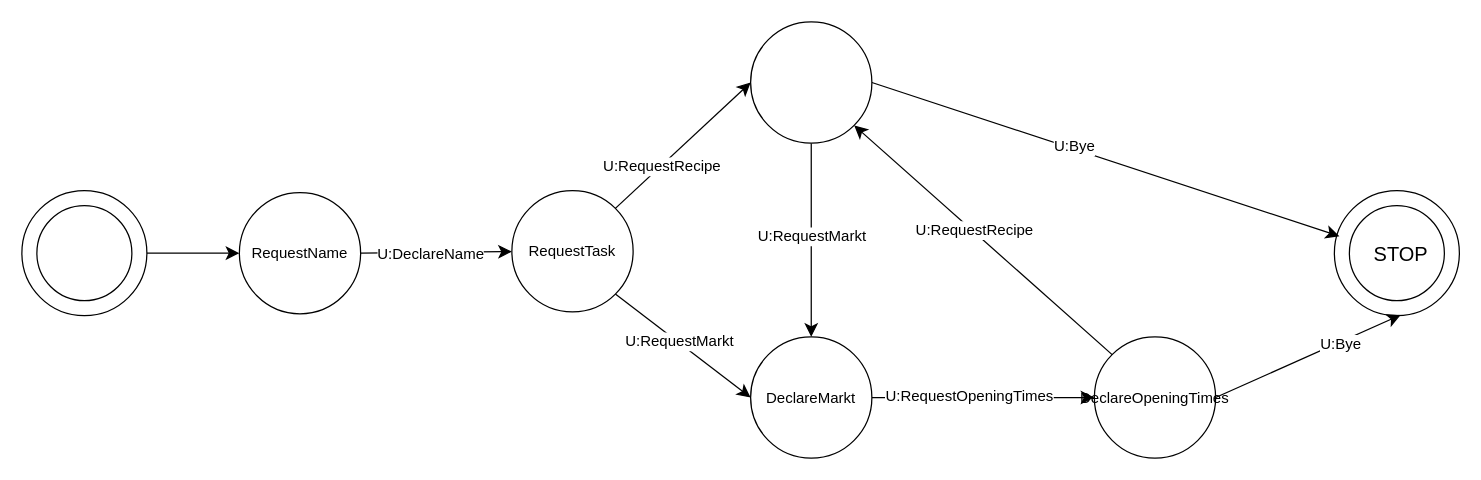
This 1481x480 diagram has some shape labels left out. The shapes that lost their labels are listed below. From the top down, each one's centre as x and y in pixels, then its label:
At (x=810, y=82): "DeclareRecipe".
At (x=84, y=252): "START".
